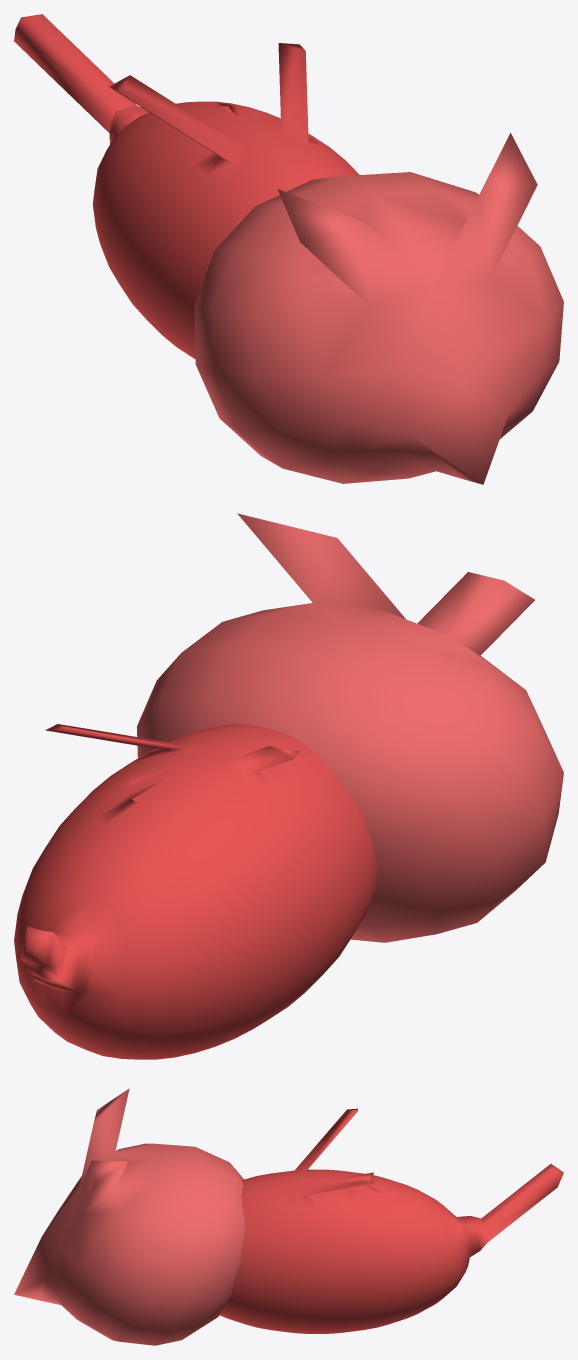
The model's file is enemy.obj.
The picture shows the model from 3 angles, top to bottom: view 1: azimuth 30°, elevation 25°; view 2: azimuth 150°, elevation 25°; view 3: azimuth 270°, elevation 25°; orthographic projection. The views are drawn at different scales.
Visible parts, largest first — view 1: 球; view 2: 球; view 3: 球.
Part boxes in pixels (x1,y1,x2,y2): 球: (14,14,563,484); 球: (14,513,563,1059); 球: (14,1088,563,1345).
Size of the model in its own units: 1.27 by 1.15 by 2.77.
Materials: 1 (1 with a texture image).
